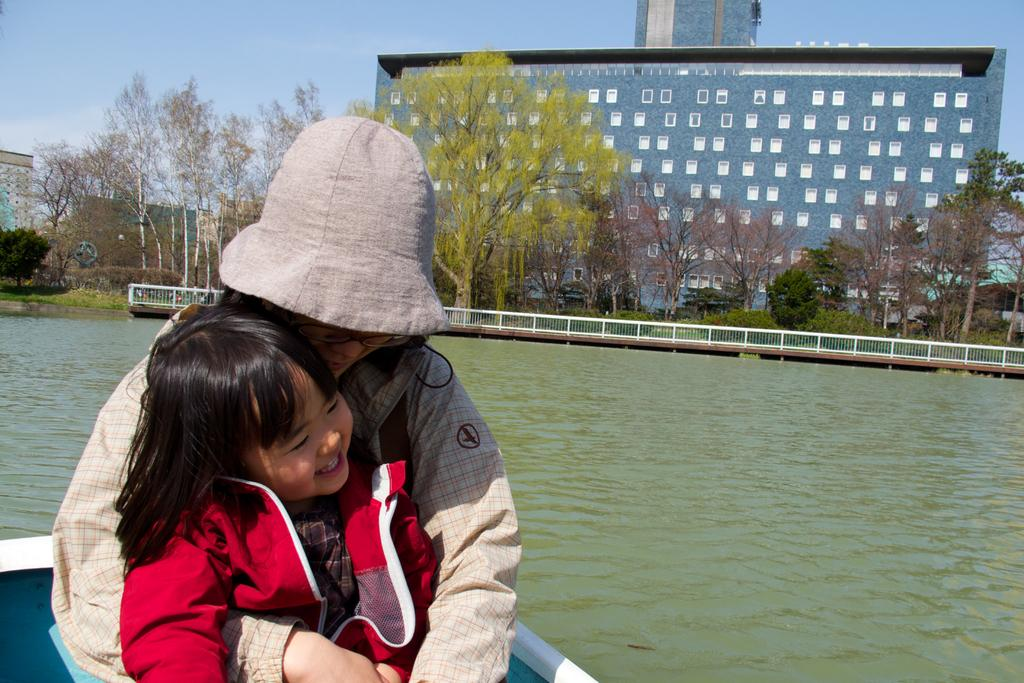Hat: (215, 112, 446, 334)
